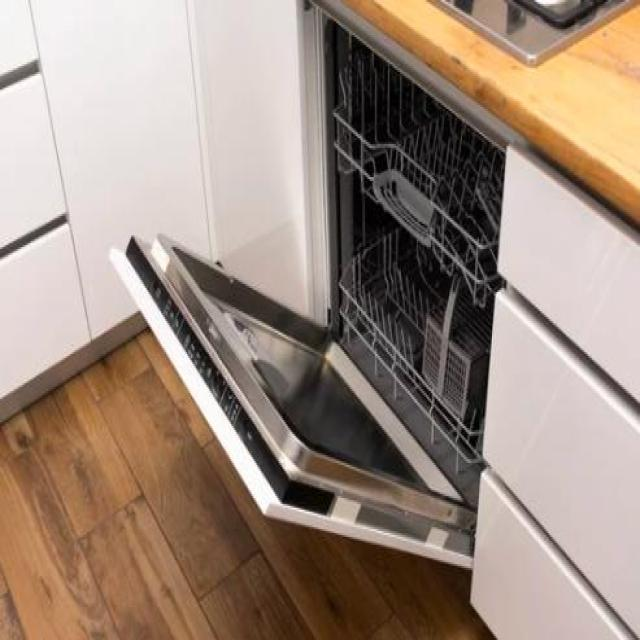dishwasher: (101, 2, 509, 576)
